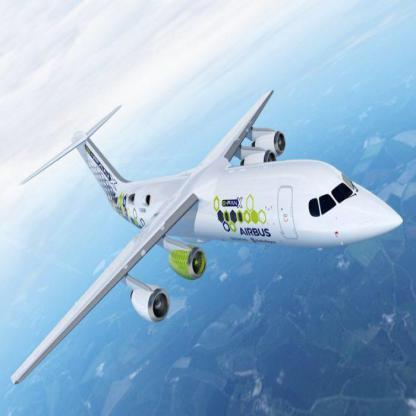CIV_Plane: (8, 76, 406, 406)
